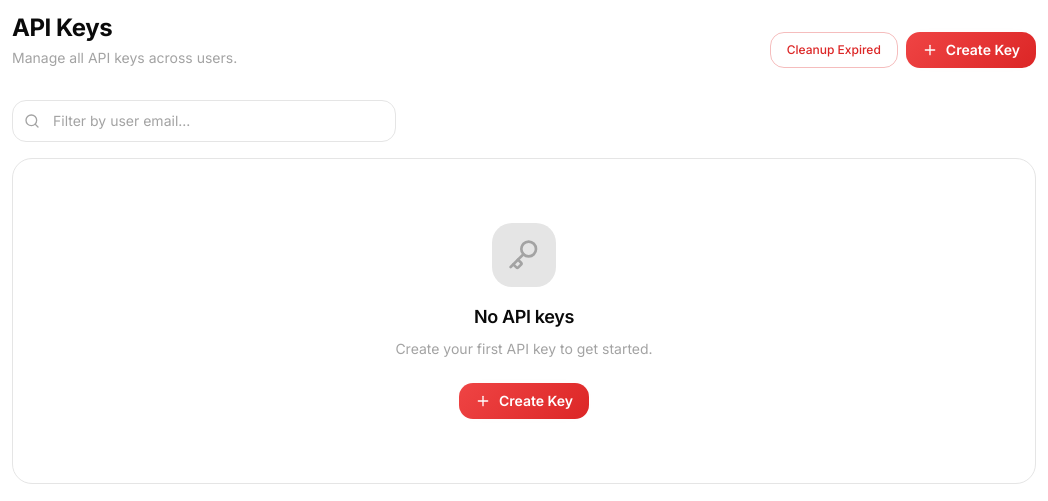
AdminApiKeysPage — render › shows the filtered empty state when searching
Type "nobody" into the field with placeholder "Filter by user email...".
click(204, 121); type("nobody")  # box [12,100,396,142]
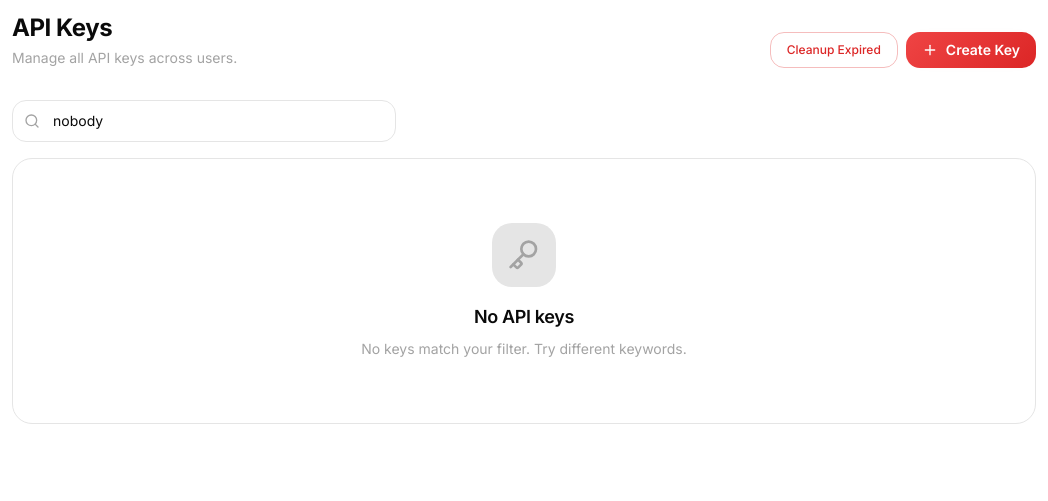
expect the text "No keys match your filter. Try different keywords." is shown: met, box [361,339,687,359]
